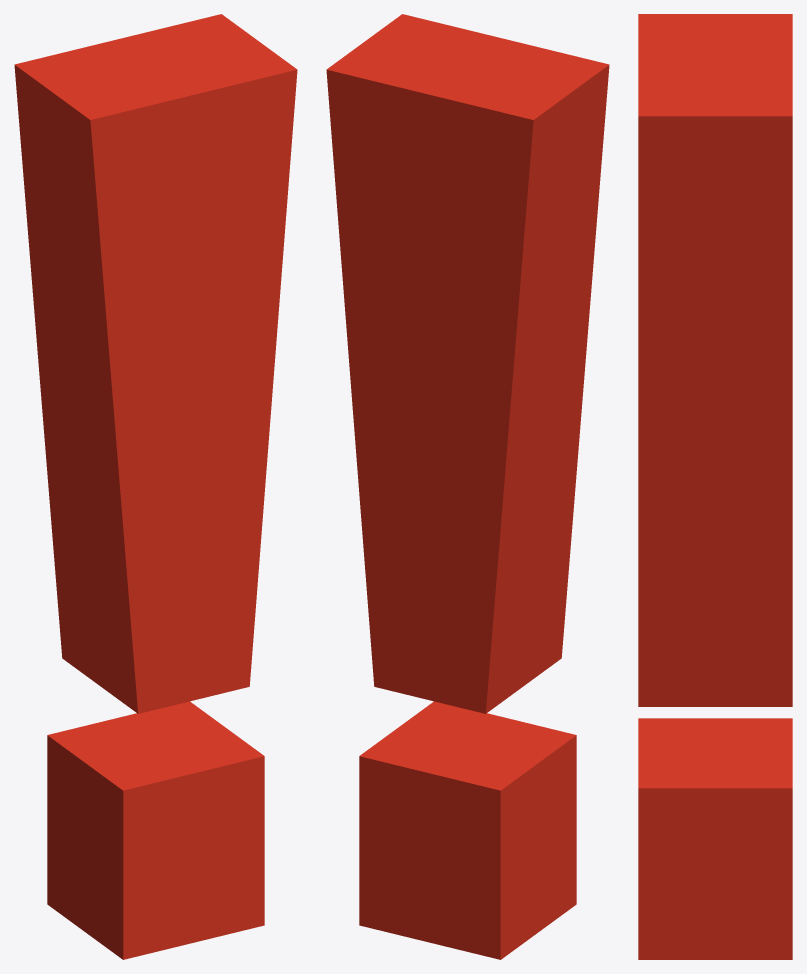
File: Icon_Symbol_ExclamationMark_02.fbx
The picture shows the model from 3 angles, left to right: view 1: azimuth 30°, elevation 25°; view 2: azimuth 150°, elevation 25°; view 3: azimuth 270°, elevation 25°; orthographic projection.
Visible parts, largest first — view 1: Icon_Symbol_ExclamationMark_02; view 2: Icon_Symbol_ExclamationMark_02; view 3: Icon_Symbol_ExclamationMark_02.
Boxes of the visible parts, x1=… form: Icon_Symbol_ExclamationMark_02: x1=14, y1=14, x2=297, y2=959; Icon_Symbol_ExclamationMark_02: x1=326, y1=14, x2=609, y2=959; Icon_Symbol_ExclamationMark_02: x1=638, y1=14, x2=792, y2=959.
Size of the model in its own units: 18.99 by 74.29 by 12.06.
